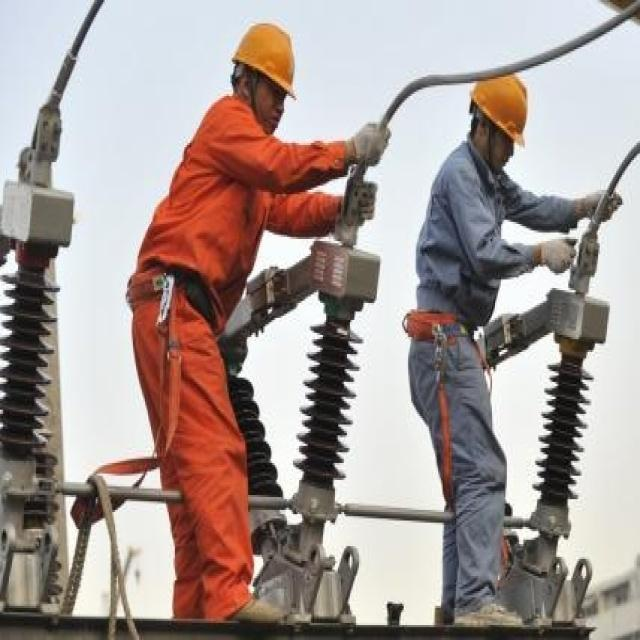helmet: (227, 21, 297, 180), (463, 80, 530, 233)
